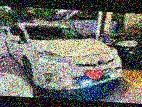car: (2, 20, 125, 95), (98, 16, 142, 65)
